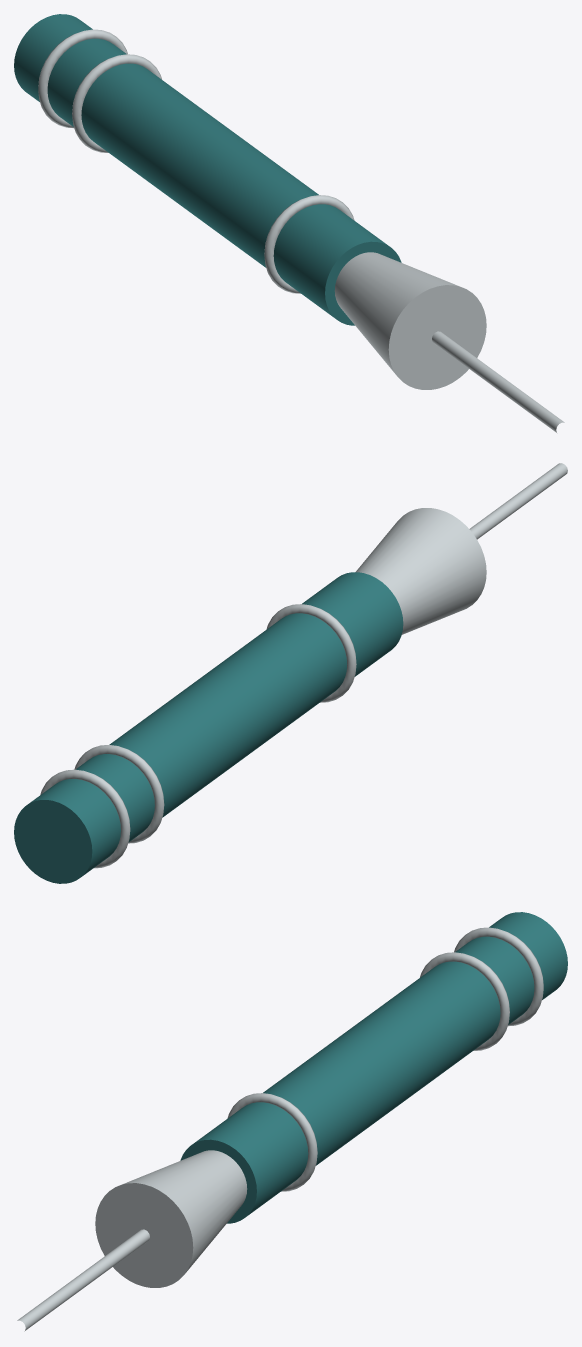
File: tabletop-hobby-store-and-club-pin-vise-drill-aaa60530__31580.glb
3 renders of one model, top to bottom at view 1: azimuth 30°, elevation 25°; view 2: azimuth 150°, elevation 25°; view 3: azimuth 330°, elevation 25°, orthographic.
Parts seen in each view (by area): view 1: pin-vise-drill; view 2: pin-vise-drill; view 3: pin-vise-drill.
Boxes of the visible parts, x1=… form: pin-vise-drill: x1=14, y1=14, x2=564, y2=433; pin-vise-drill: x1=14, y1=463, x2=567, y2=883; pin-vise-drill: x1=17, y1=912, x2=567, y2=1331.
Bounding box in the file's own units: 0.00999 × 0.00999 × 0.09.
